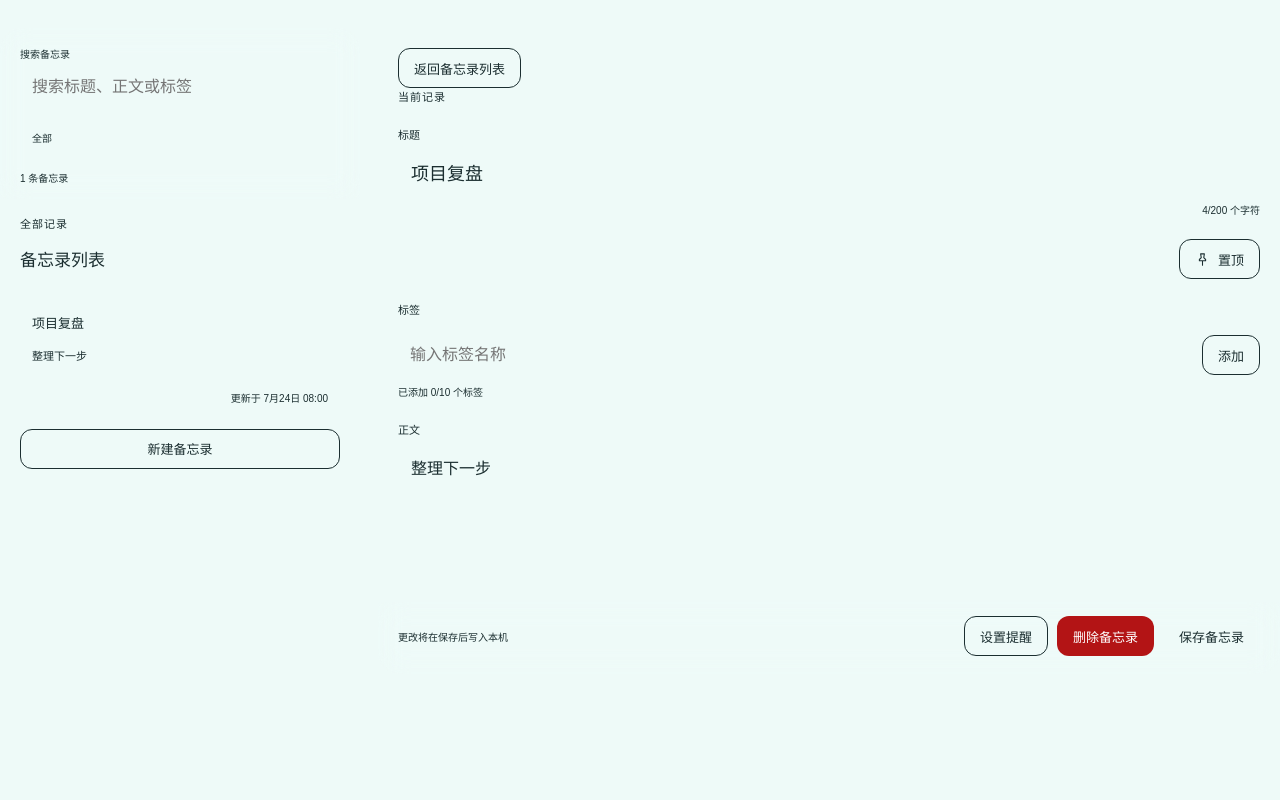
MemoWorkspace › removes a confirmed memo and retains it with an error when deletion fails
Click the button "删除备忘录".
click(1106, 636)  # box top-left (1057, 616), bottom-right (1154, 656)
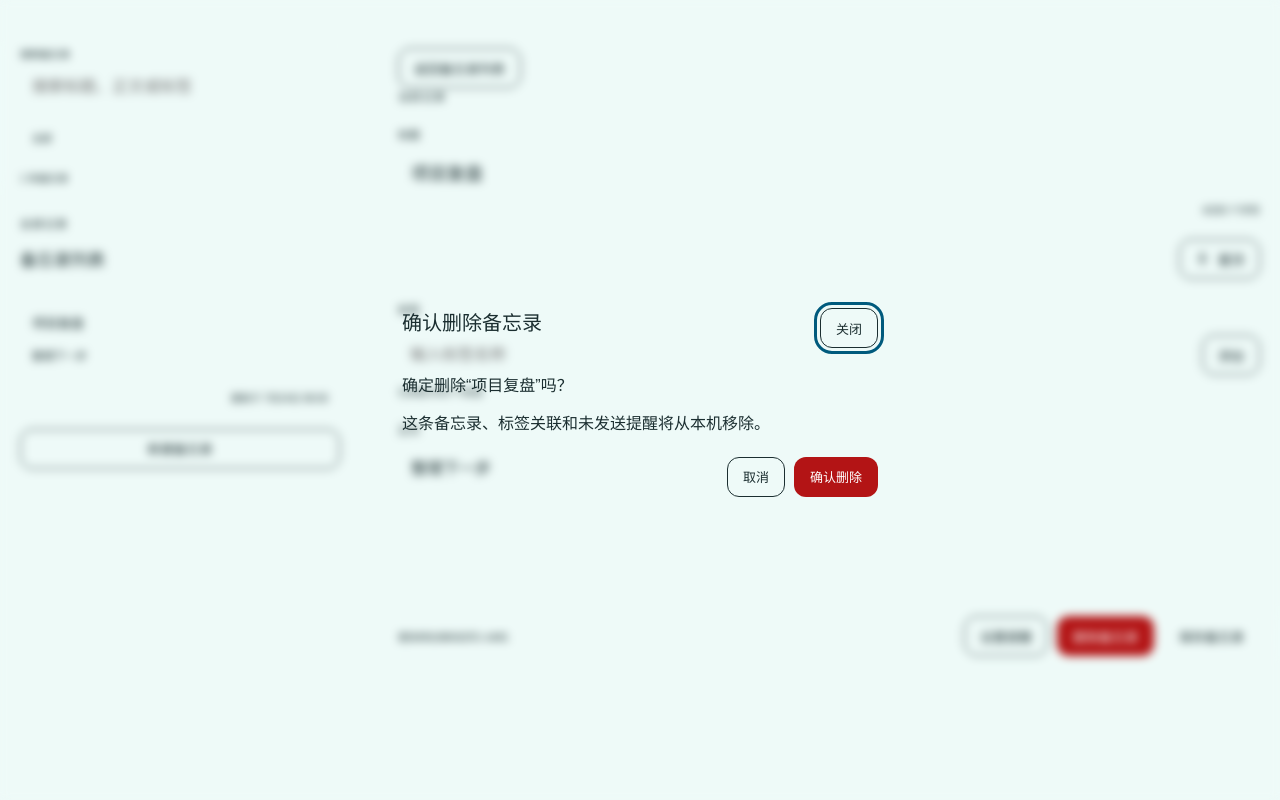
Click the button "确认删除".
click(836, 477)  # box top-left (794, 457), bottom-right (878, 497)
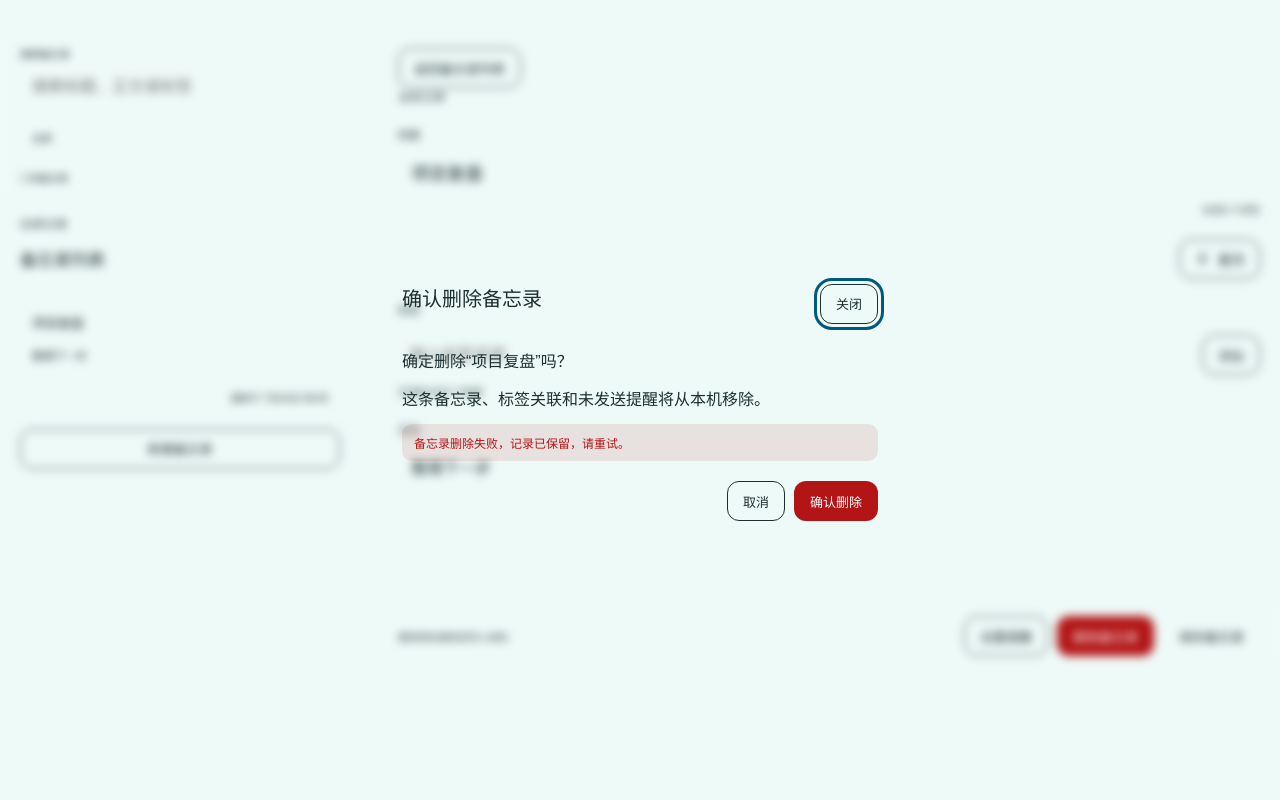
expect the field labelled "标题" holds "项目复盘": met, box top-left (398, 150), bottom-right (1260, 194)
expect the message reads "备忘录删除失败，记录已保留，请重试。": met, box top-left (414, 437), bottom-right (630, 451)
Click the button "确认删除".
click(836, 501)  # box top-left (794, 481), bottom-right (878, 521)
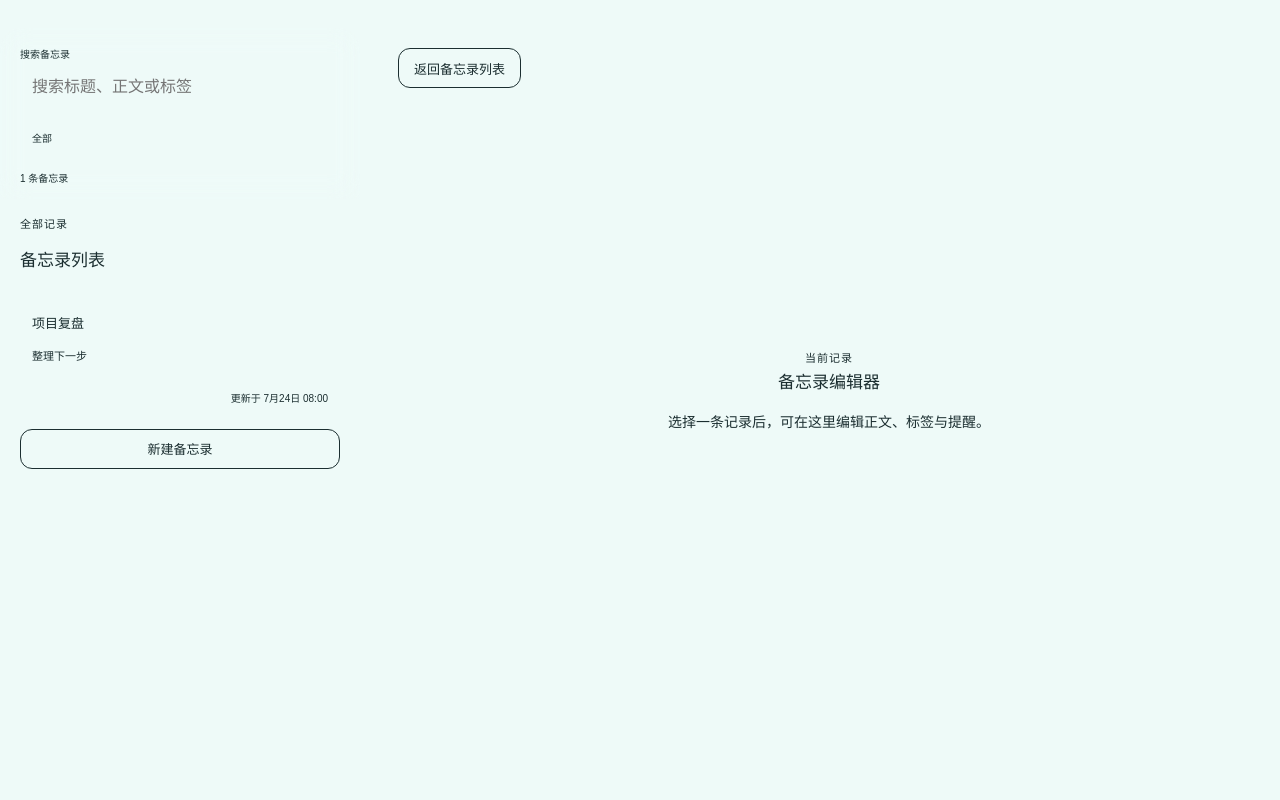
expect the heading "确认删除备忘录" is gone: met
expect the heading "备忘录编辑器" is shown: met, box top-left (778, 372), bottom-right (880, 395)
